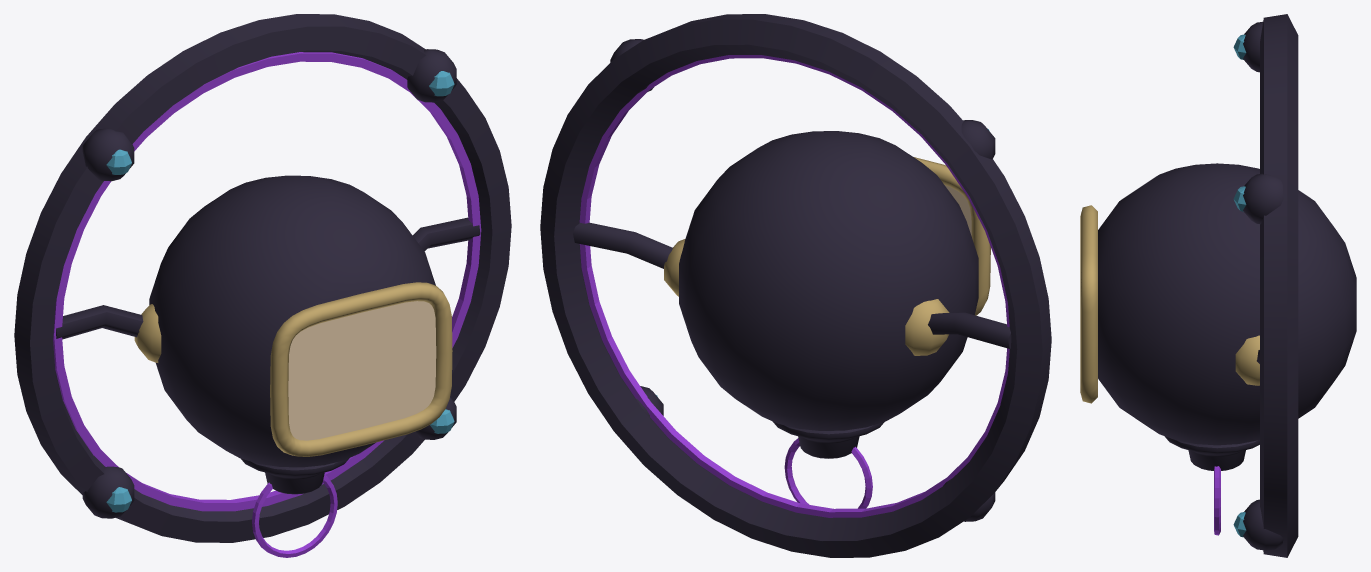
The model's file is Kit_Head_LeagueRing.glb.
The picture shows the model from 3 angles, left to right: view 1: azimuth 30°, elevation 25°; view 2: azimuth 150°, elevation 25°; view 3: azimuth 270°, elevation 25°; orthographic projection. The views are drawn at different scales.
Parts seen in each view (by area): view 1: Kit_Head_LeagueRing, FacePlate; view 2: Kit_Head_LeagueRing; view 3: Kit_Head_LeagueRing.
Part boxes in pixels (bbox=[...]): Kit_Head_LeagueRing: bbox=[14, 14, 511, 557]; FacePlate: bbox=[288, 301, 436, 440]; Kit_Head_LeagueRing: bbox=[540, 14, 1051, 557]; Kit_Head_LeagueRing: bbox=[1080, 14, 1356, 557].
Size of the model in its own units: 0.5356 by 0.5356 by 0.2719.
